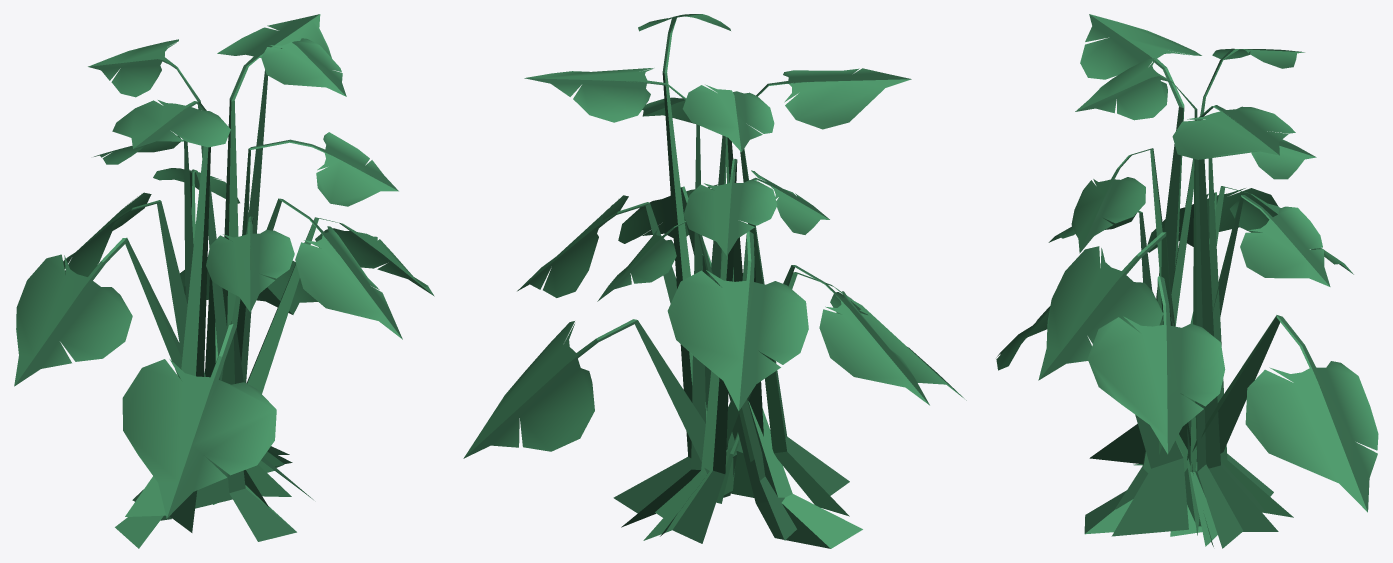
Rendered from Big Leaf Plant.glb.
3 renders of one model, left to right at view 1: azimuth 30°, elevation 25°; view 2: azimuth 150°, elevation 25°; view 3: azimuth 270°, elevation 25°, orthographic. The views are drawn at different scales.
Visible parts, largest first — view 1: Plane.006; view 2: Plane.006; view 3: Plane.006.
Part boxes in pixels (x1,y1,x2,y2): Plane.006: [14, 14, 434, 548]; Plane.006: [463, 14, 966, 548]; Plane.006: [996, 14, 1378, 548].
Size of the model in its own units: 6.01 by 6.53 by 4.7.
